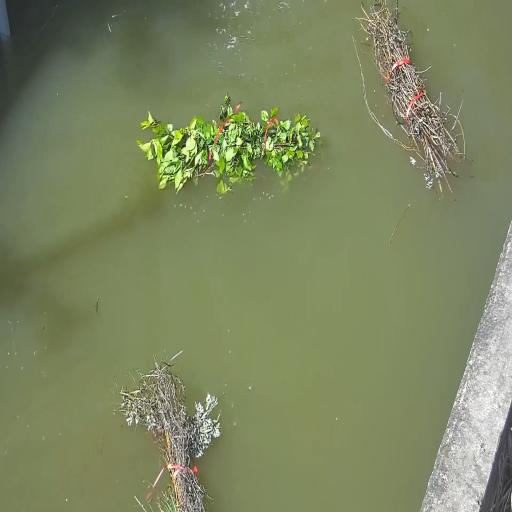twig: (354, 0, 462, 192), (121, 354, 229, 512), (140, 98, 316, 188)
